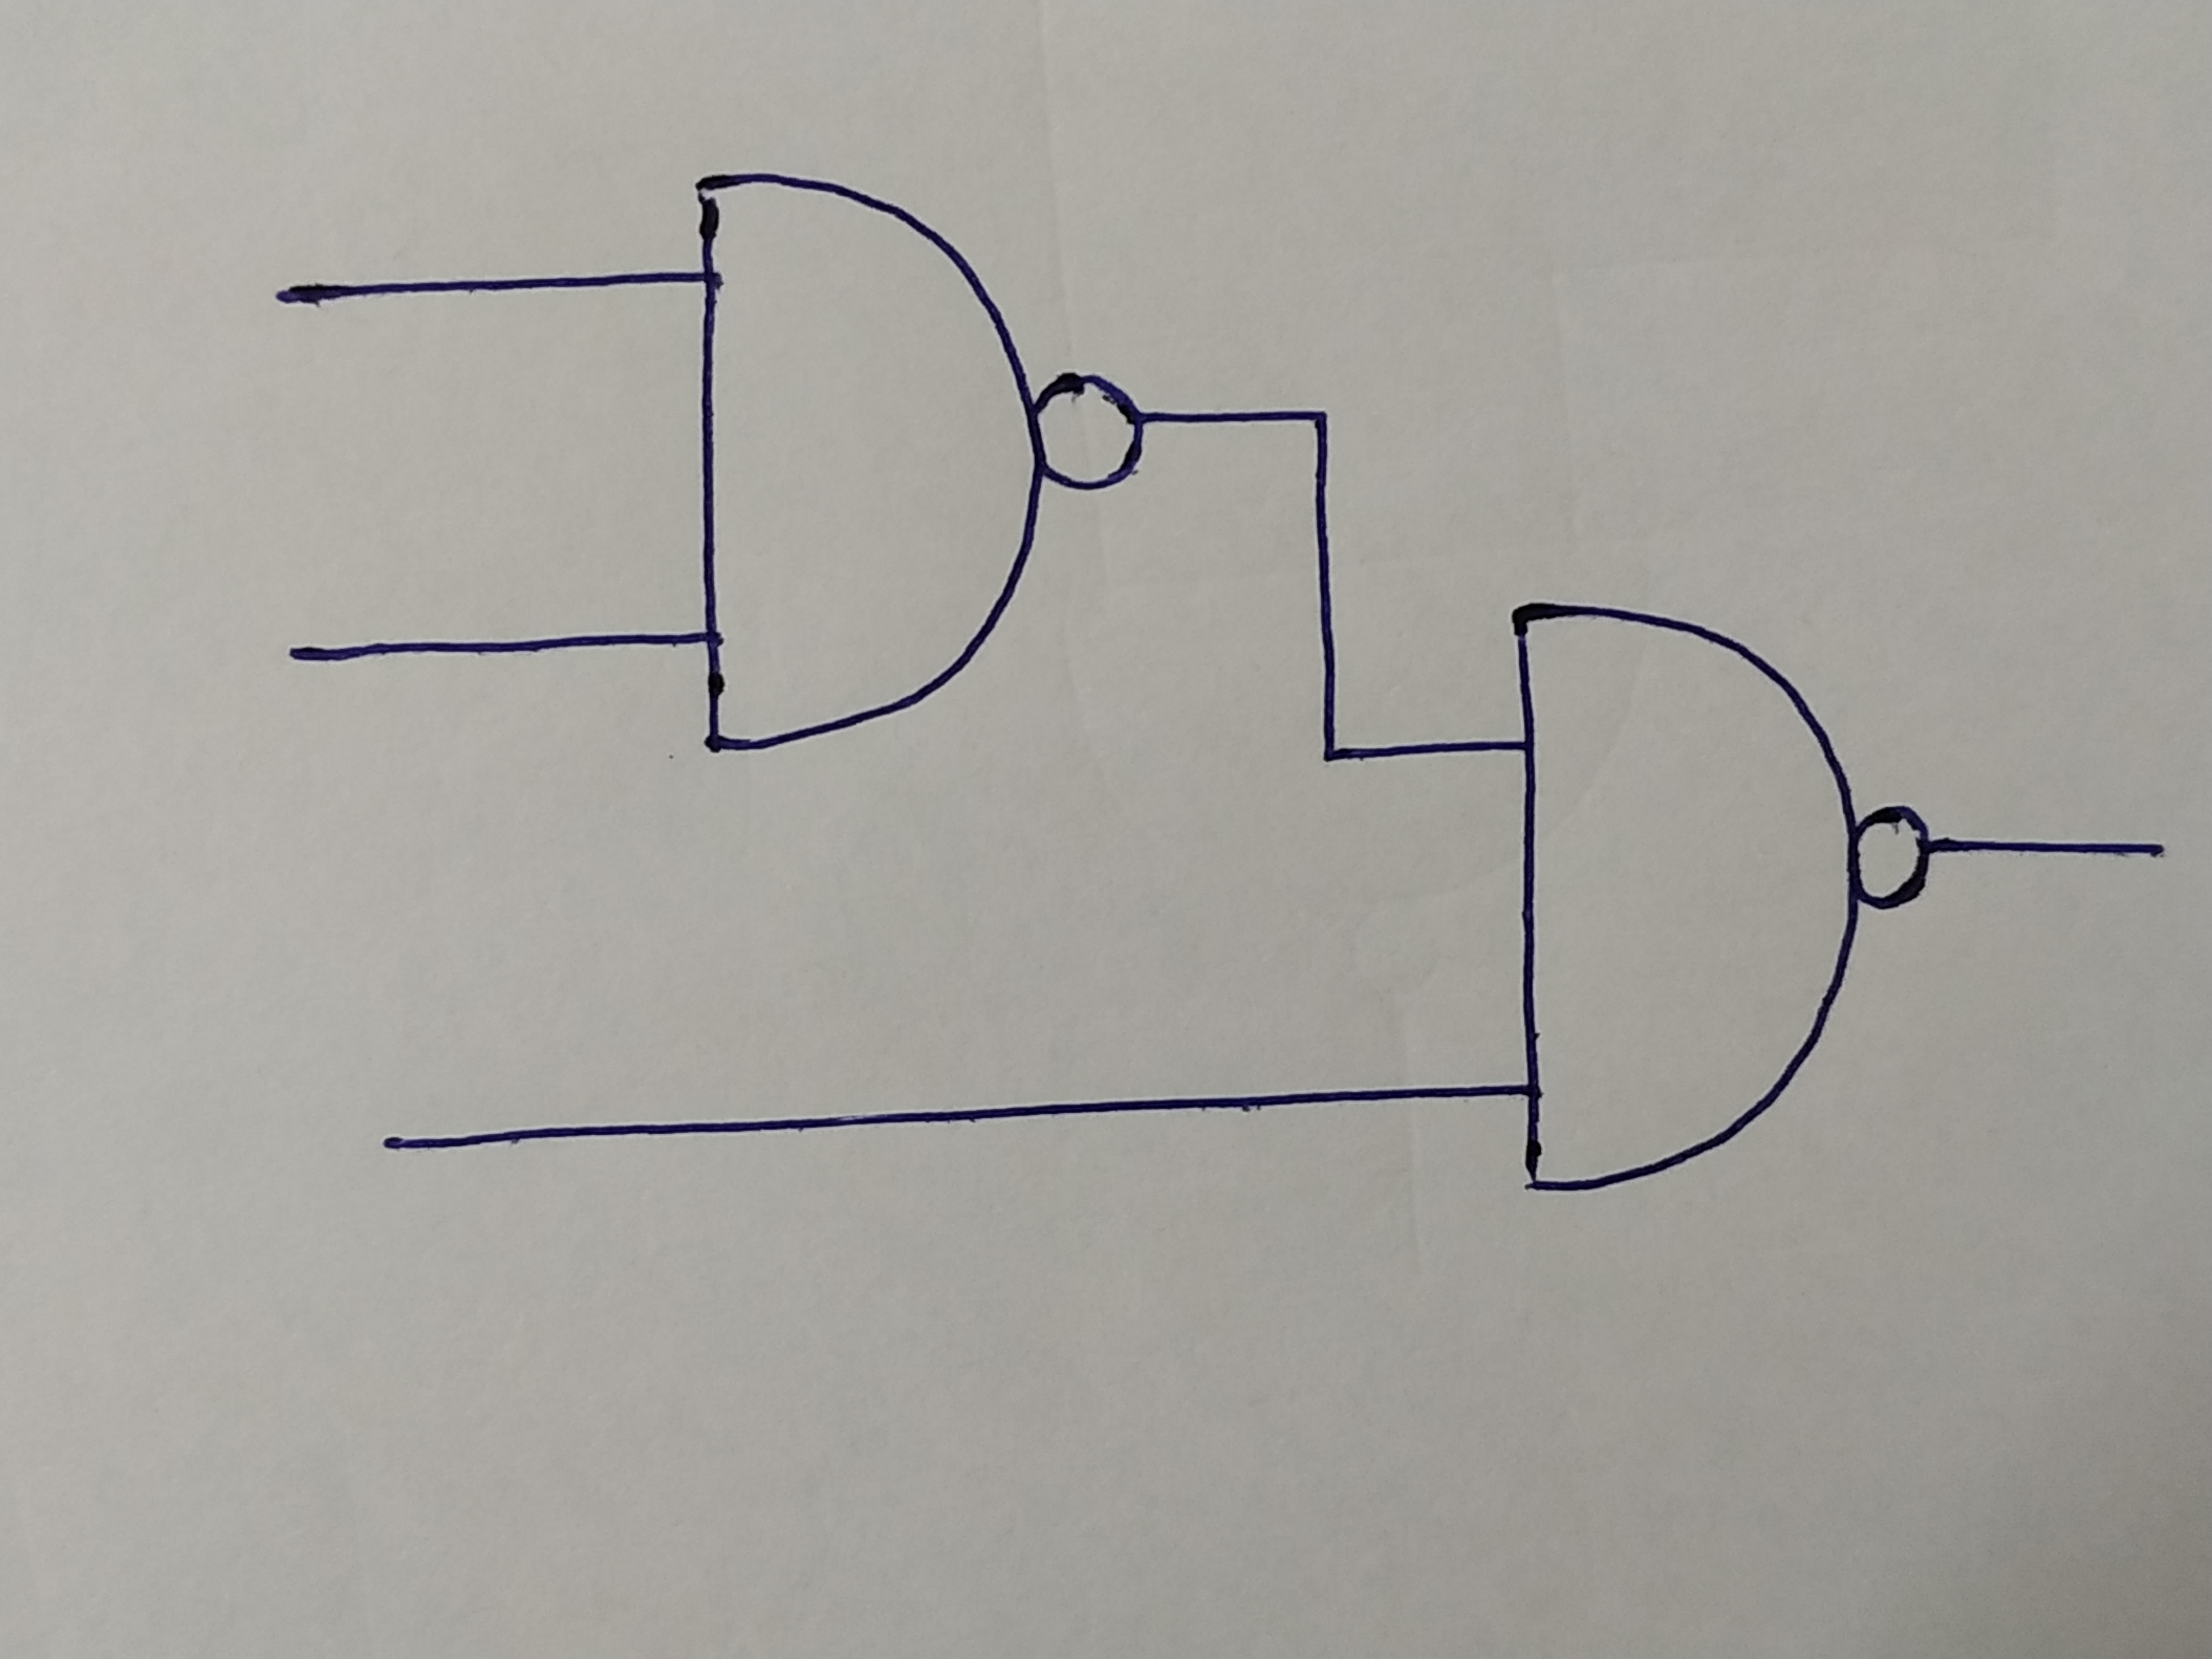and: (1505, 598, 1858, 1201), (676, 173, 1042, 753)
not: (1042, 371, 1143, 497), (1857, 803, 1933, 911)
